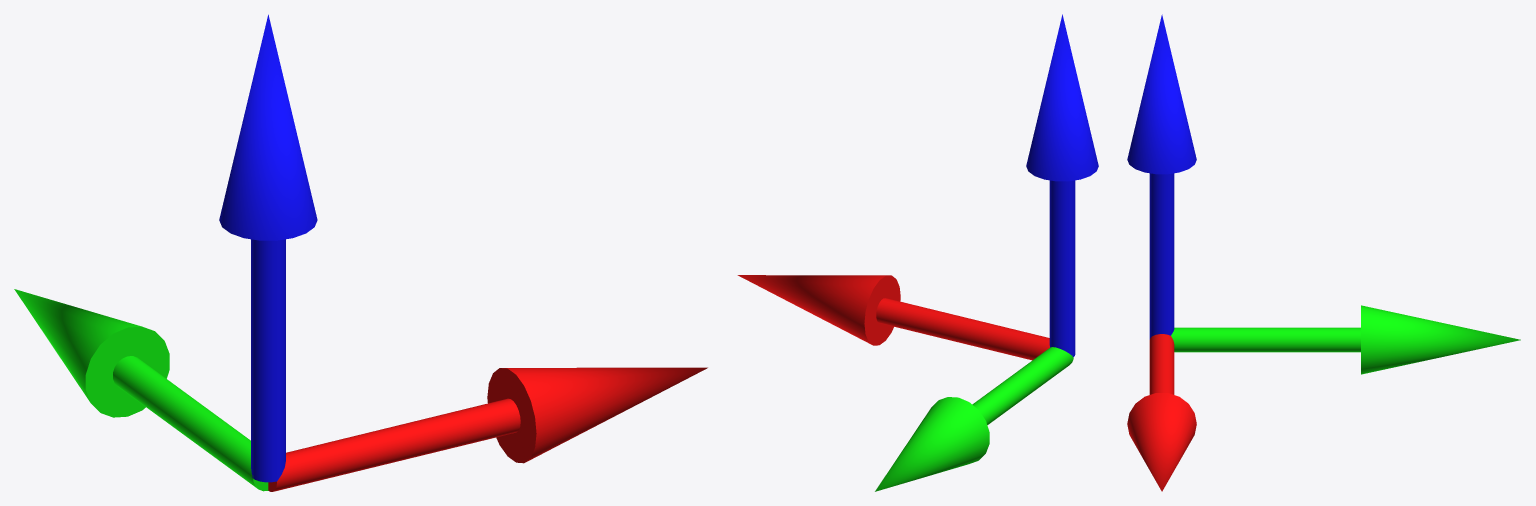
File: triplet_colours.obj
3 views of the same model, side by side, from view 1: azimuth 30°, elevation 25°; view 2: azimuth 150°, elevation 25°; view 3: azimuth 270°, elevation 25° (orthographic). The views are drawn at different scales.
Parts seen in each view (by area): view 1: triplet; view 2: triplet; view 3: triplet.
Boxes of the visible parts, box(x1,y1,x2,y2) form: triplet: box(14, 14, 707, 491); triplet: box(737, 14, 1098, 491); triplet: box(1127, 14, 1520, 491).
Size of the model in its own units: 0.3221 by 0.3225 by 0.3225.
